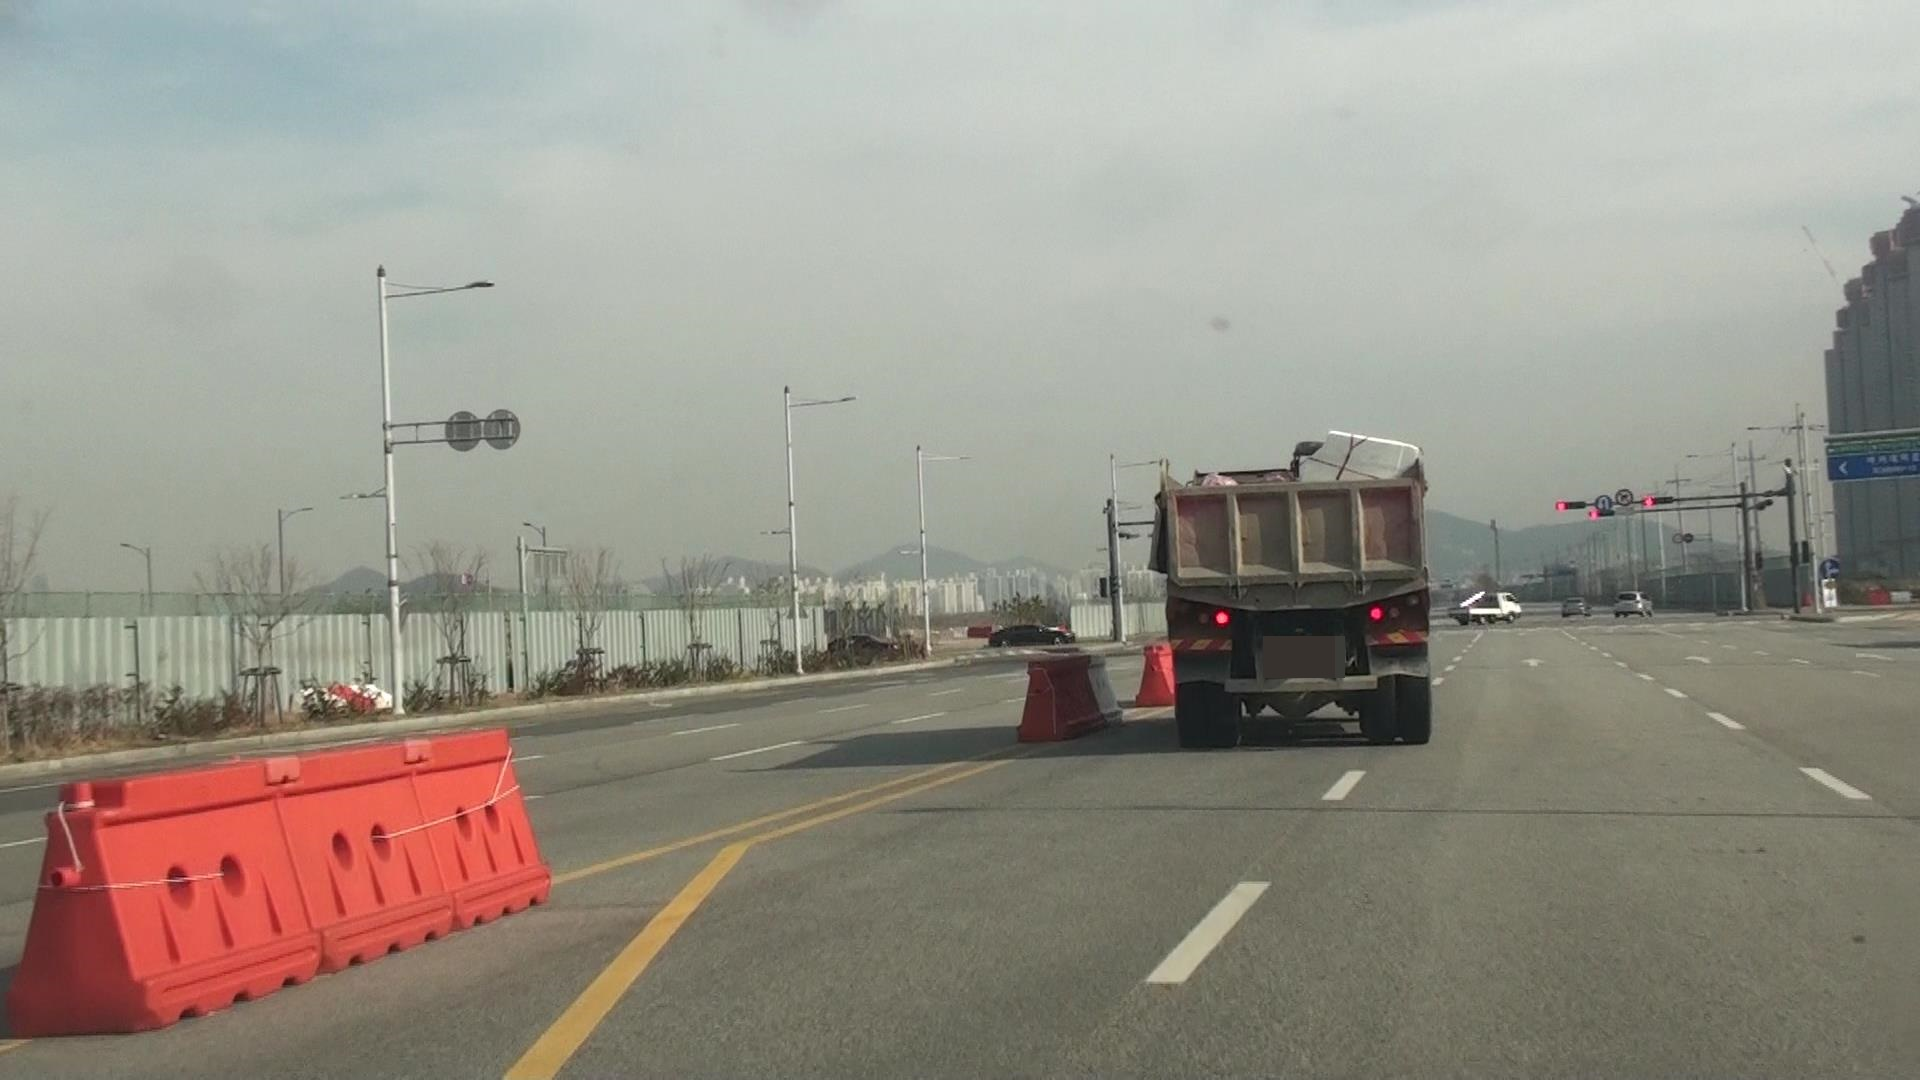불법차량: (1147, 430, 1434, 749)
